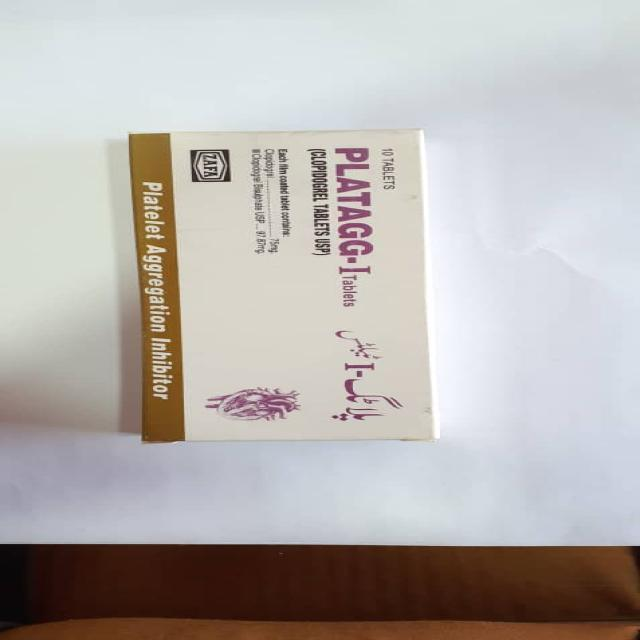drug-name: (333, 142, 378, 278)
